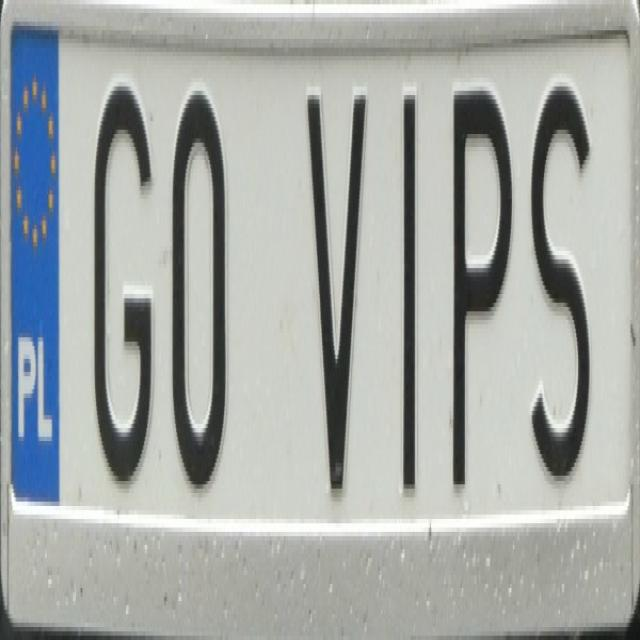pl_license_plate: (9, 26, 627, 502)
